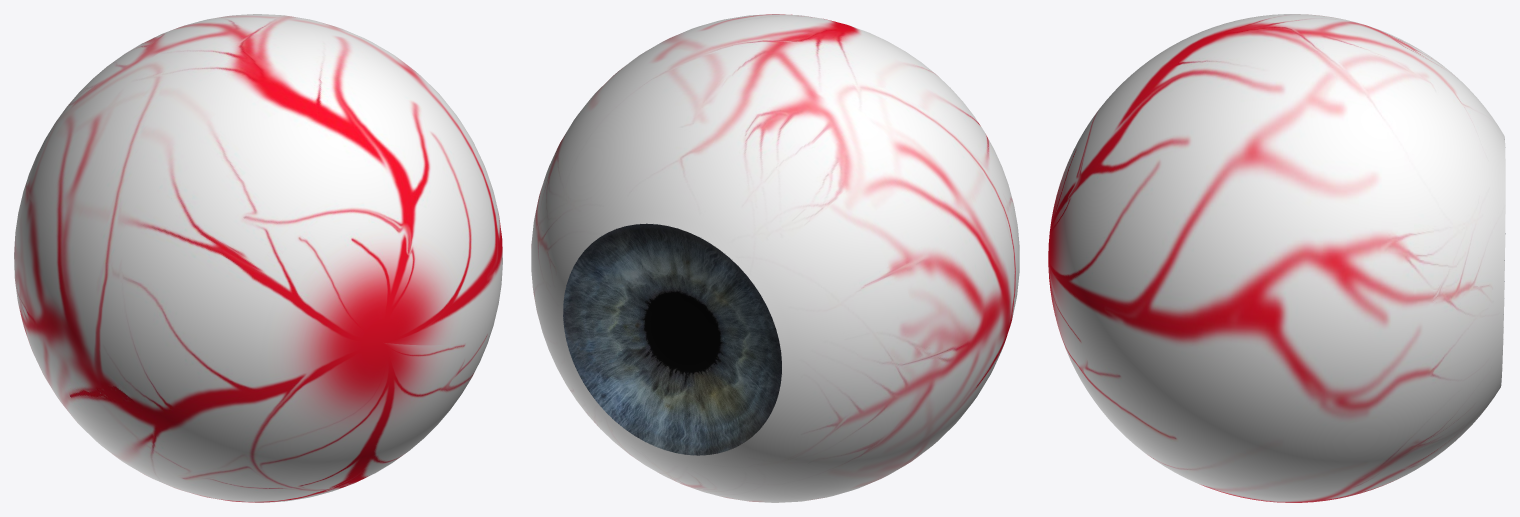
Rendered from bio3d2-eye.glb.
3 views of the same model, side by side, from view 1: azimuth 30°, elevation 25°; view 2: azimuth 150°, elevation 25°; view 3: azimuth 270°, elevation 25° (orthographic).
Visible parts, largest first — view 1: Object_4; view 2: Object_4, Object_8, Object_9; view 3: Object_4.
Boxes of the visible parts, x1,y1,x2,y2 form: Object_4: (14,14,502,502); Object_4: (531,14,1019,502); Object_8: (563,223,781,455); Object_9: (650,299,712,365); Object_4: (1048,14,1505,502).
Size of what is drawn, in the model's own units: 0.0338 by 0.0338 by 0.0316.
Materials: 3 (2 with a texture image).
